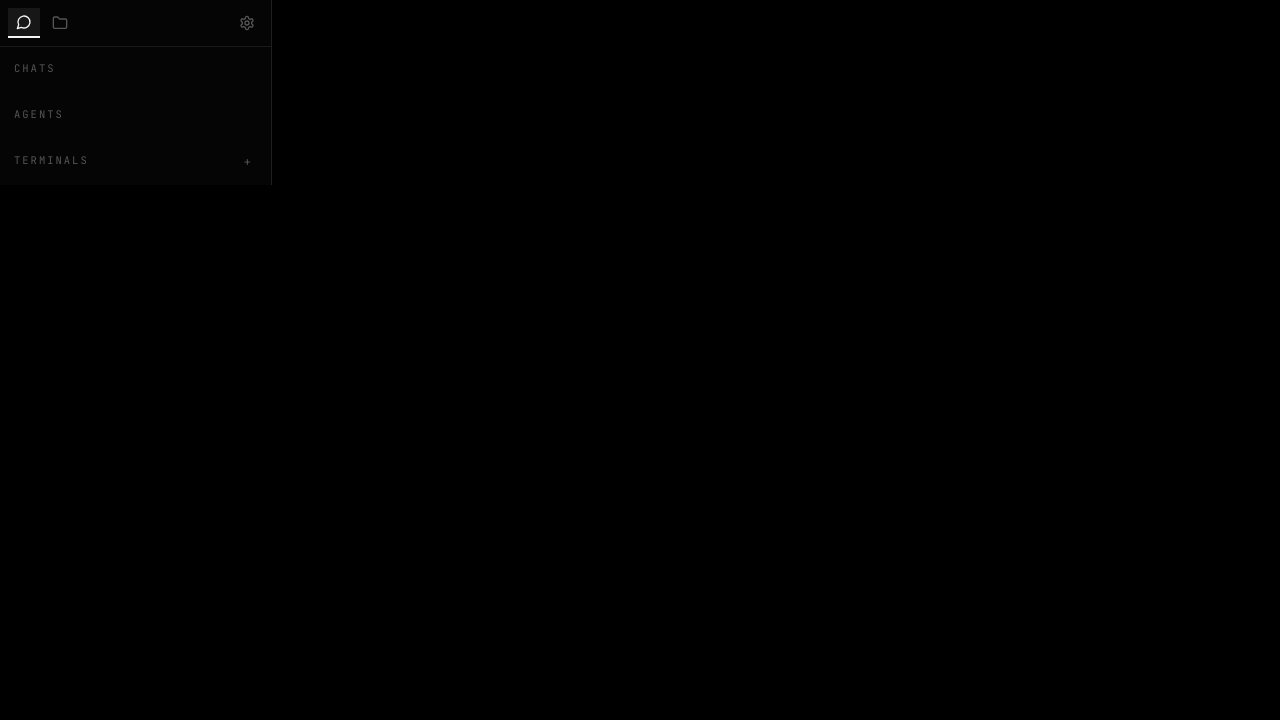
settings modal / theme switcher › closes on Escape and on backdrop click
Click the button with test id "settings-open" at (247, 23), box [231,8,263,38]
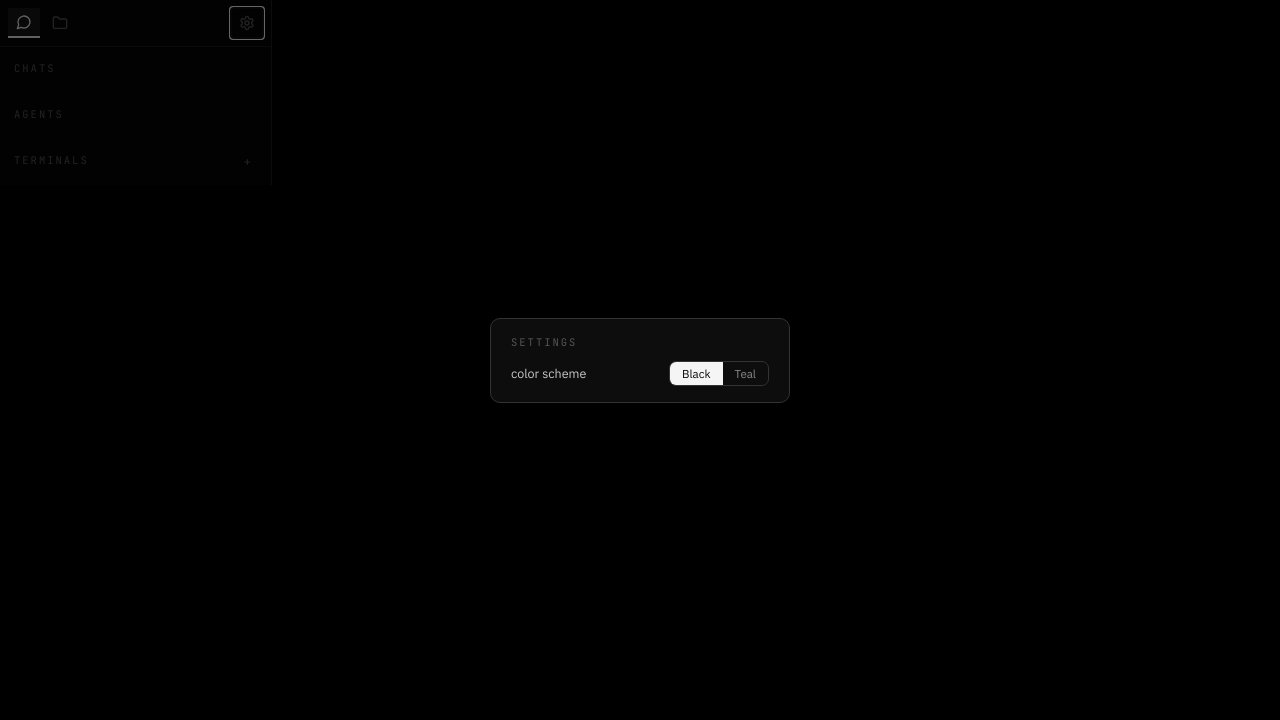
Press Escape
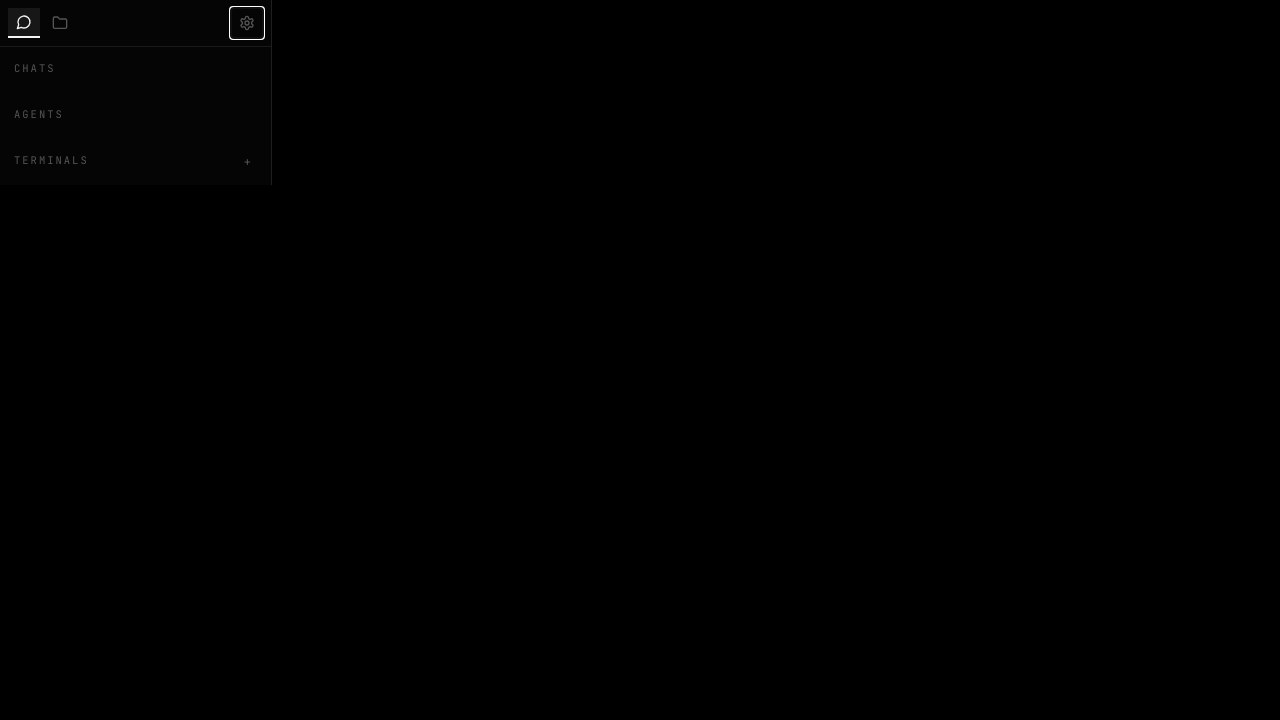
Check: the element with test id "settings-modal" is gone
Click the button with test id "settings-open" at (247, 23), box [231,8,263,38]
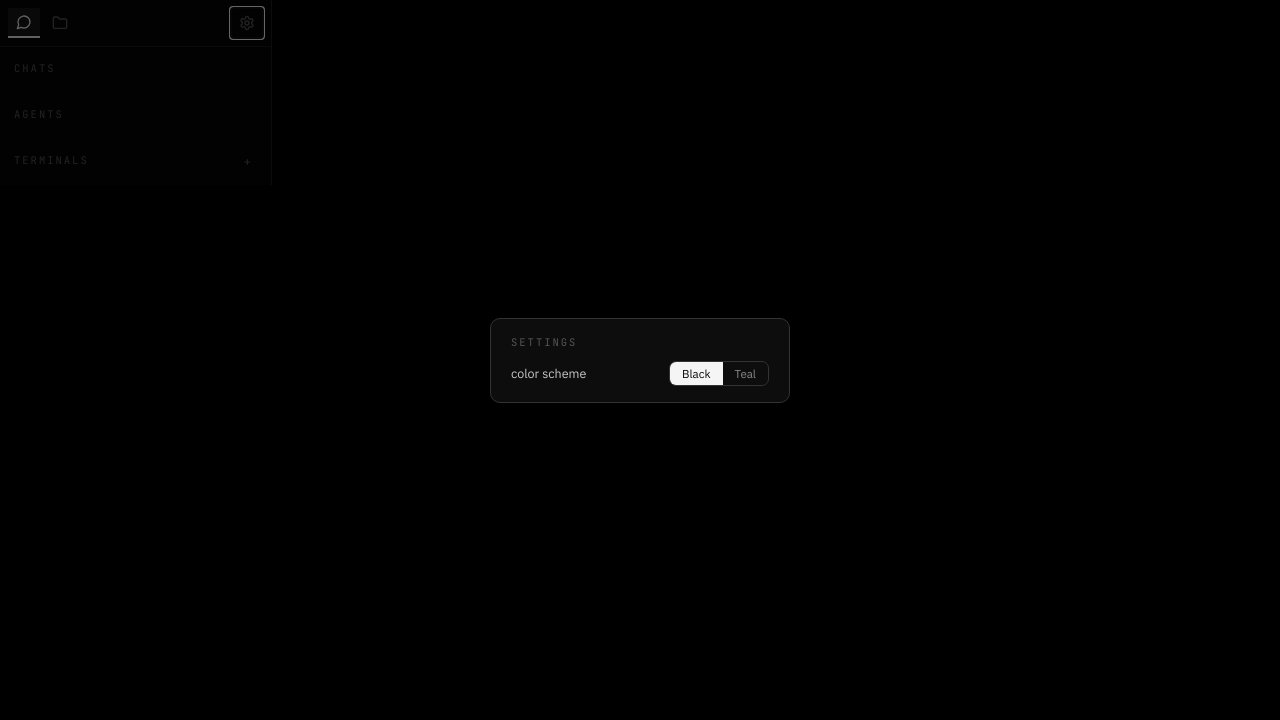
Click the element with test id "settings-backdrop" at (77, 360), box [0,0,1279,719]
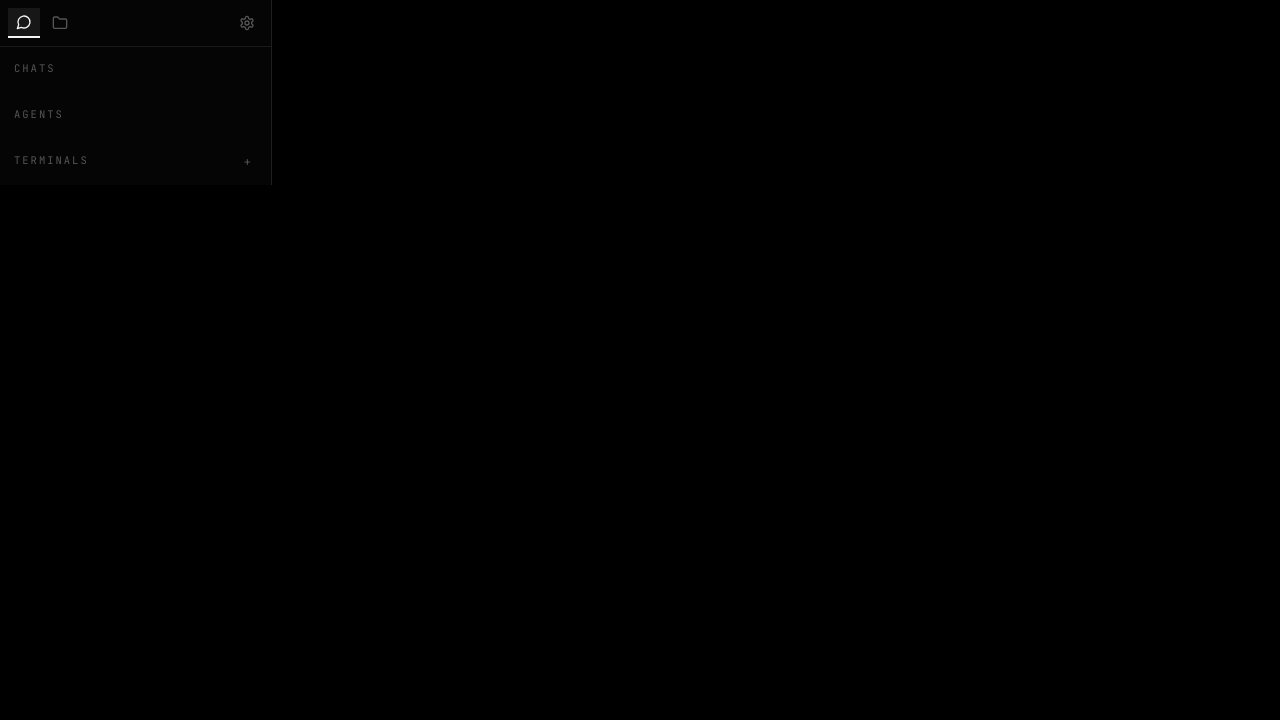
Check: the element with test id "settings-modal" is gone
